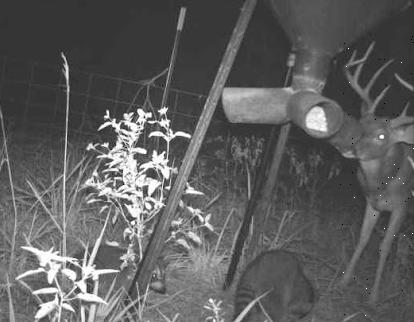Deer: (340, 36, 414, 317)
